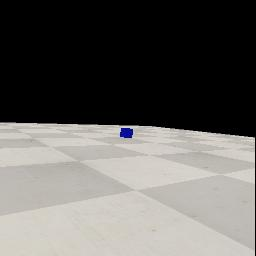box: (120, 128, 133, 138)
